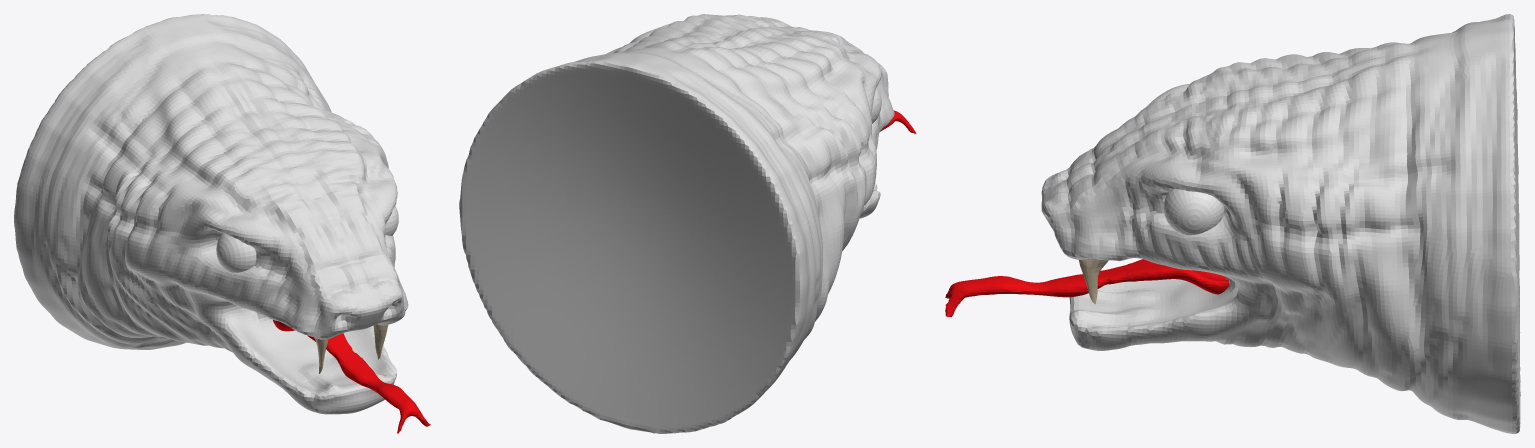
The model's file is snek4.fbx.
3 views of the same model, side by side, from view 1: azimuth 30°, elevation 25°; view 2: azimuth 150°, elevation 25°; view 3: azimuth 270°, elevation 25° (orthographic). The views are drawn at different scales.
Visible parts, largest first — view 1: Snake_head, Tongue, Eyes, Teeth; view 2: Snake_head; view 3: Snake_head, Tongue, Eyes, Teeth.
Boxes of the visible parts, <box> form: Snake_head: <box>14,14,408,414</box>; Tongue: <box>273,320,430,433</box>; Eyes: <box>216,206,398,272</box>; Teeth: <box>314,324,388,373</box>; Snake_head: <box>459,14,894,433</box>; Snake_head: <box>1041,14,1520,433</box>; Tongue: <box>945,259,1229,317</box>; Eyes: <box>1163,189,1224,235</box>; Teeth: <box>1078,258,1108,304</box>.
Size of the model in its own units: 197 by 199 by 272.
